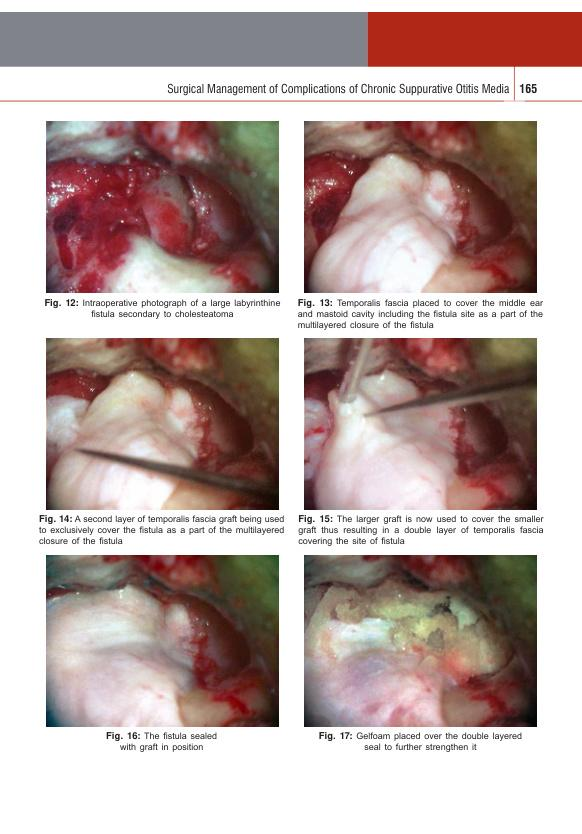caption: (296, 297, 545, 331), (297, 513, 545, 547), (37, 513, 286, 546), (43, 297, 282, 321), (317, 729, 524, 753), (104, 729, 219, 754)
header: (167, 82, 511, 97)
image: (46, 554, 280, 728), (304, 554, 539, 727), (46, 337, 279, 511), (304, 337, 538, 510), (304, 120, 537, 293), (46, 122, 280, 293)
